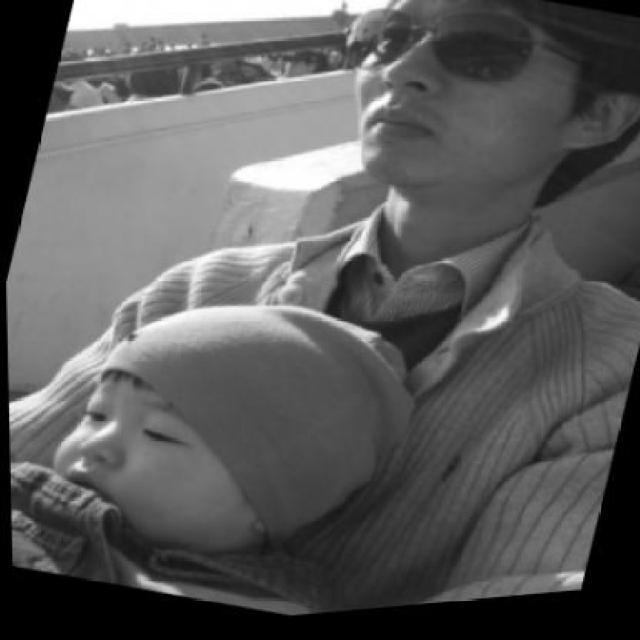hat: (95, 308, 413, 552)
